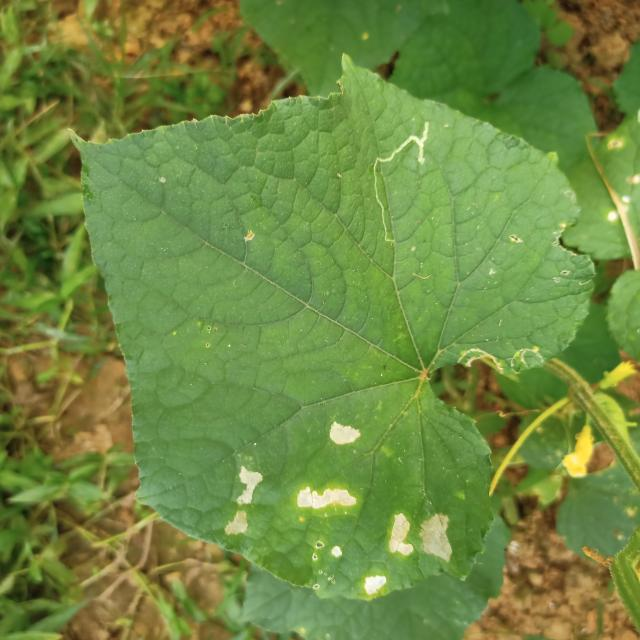disease_cucumber: (292, 479, 456, 599), (221, 462, 266, 542), (326, 415, 365, 454)
